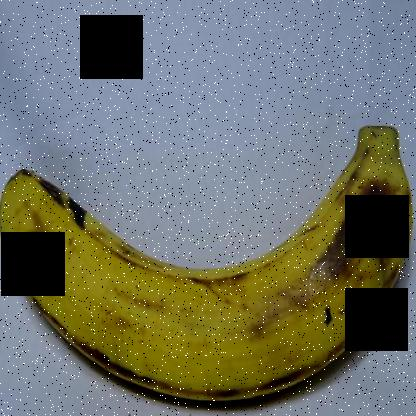overripe: (1, 81, 416, 415)
